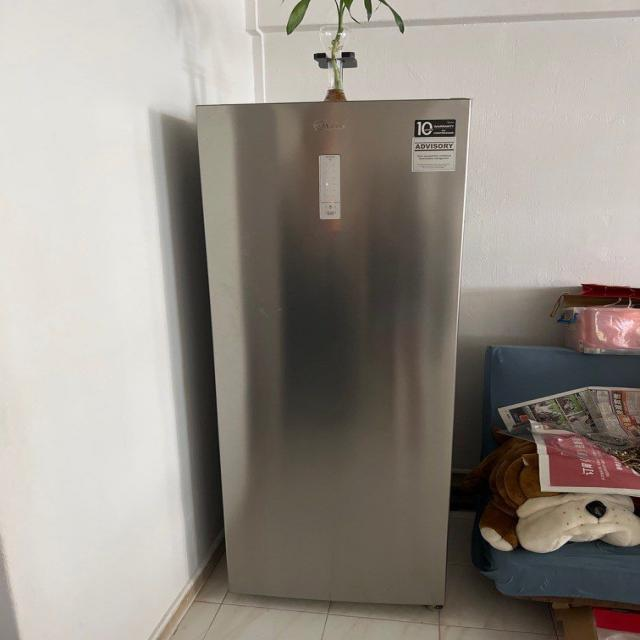refrigerator: (196, 96, 474, 612)
